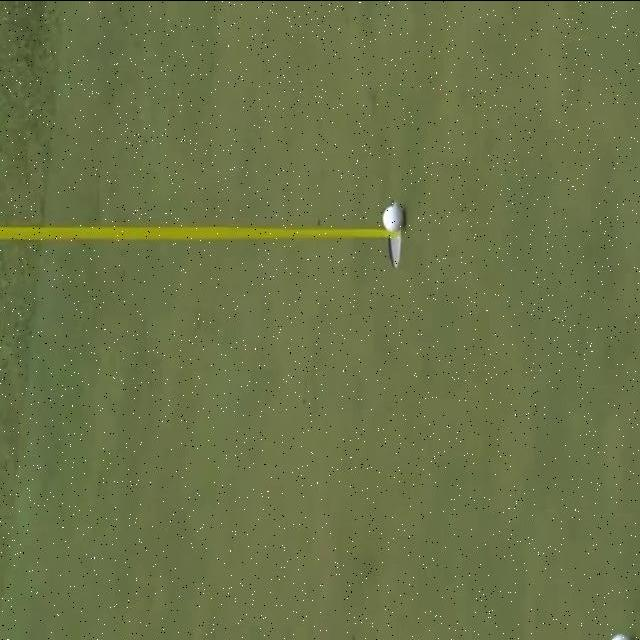golf ball: (378, 199, 409, 232)
